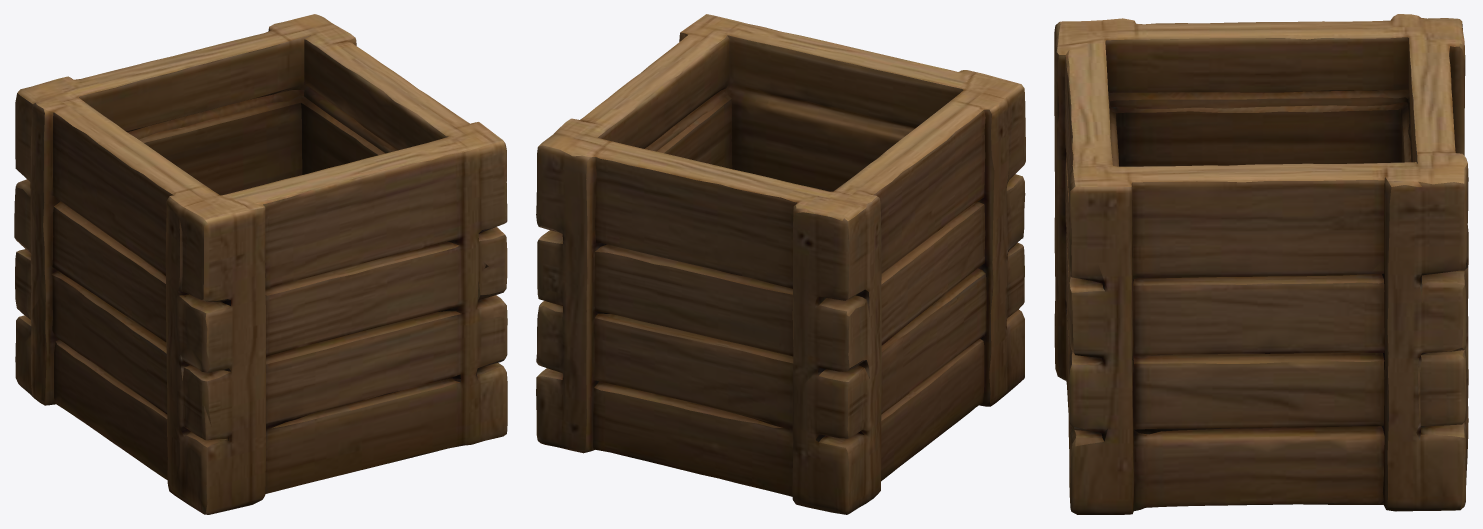
Rendered from small-brown-wooden-slat-7fead3c0.glb.
The picture shows the model from 3 angles, left to right: view 1: azimuth 30°, elevation 25°; view 2: azimuth 150°, elevation 25°; view 3: azimuth 270°, elevation 25°; orthographic projection. The views are drawn at different scales.
Parts seen in each view (by area): view 1: geometry_0; view 2: geometry_0; view 3: geometry_0.
Boxes of the visible parts, x1,y1,x2,y2 form: geometry_0: (14,14,507,514); geometry_0: (536,14,1025,514); geometry_0: (1054,14,1468,514).
Size of the model in its own units: 0.9934 by 0.8825 by 1.
Materials: 1 (1 with a texture image).
